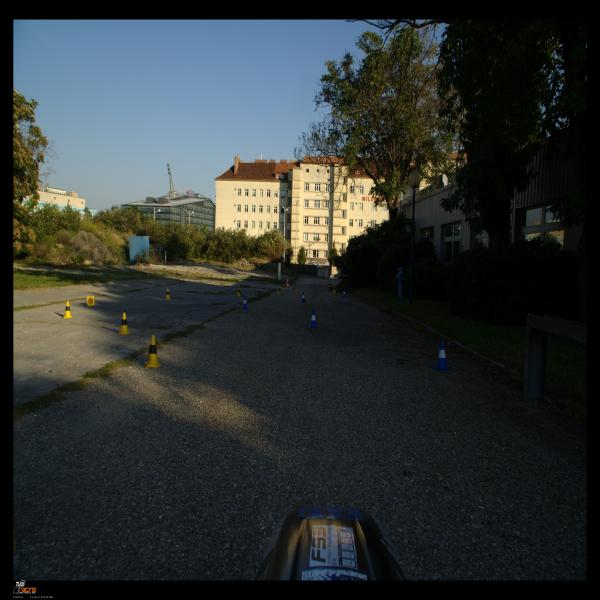blue_cone: (432, 341, 451, 371), (308, 310, 319, 328), (242, 296, 250, 309), (300, 292, 306, 303), (342, 289, 347, 298)
large_orange_cone: (285, 278, 290, 288), (328, 279, 332, 290)
yellow_cone: (144, 335, 162, 369), (118, 312, 132, 335), (62, 301, 72, 318), (165, 288, 171, 300), (87, 296, 94, 306), (236, 286, 241, 296), (277, 286, 282, 294), (332, 285, 336, 293), (282, 284, 286, 291)
